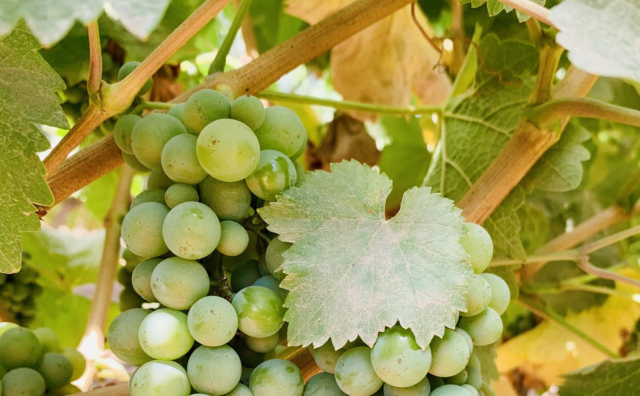Green grapes: (115, 100, 308, 396), (368, 329, 438, 385)
